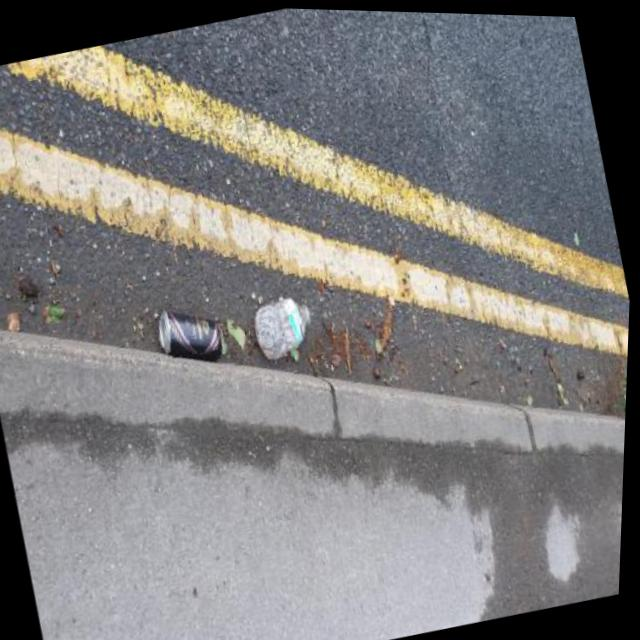metal: (150, 297, 229, 375)
plastic: (246, 293, 318, 365)
